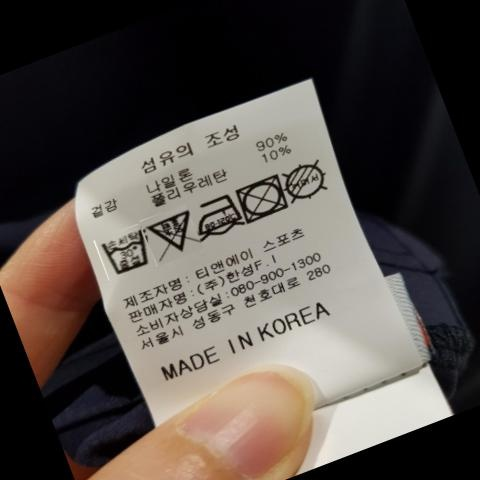DN_tumble_dry: (240, 173, 287, 227)
dry_flat_in_shade: (283, 155, 333, 209)
hand_wash: (102, 226, 151, 276)
iron_low: (198, 188, 244, 240)
non_chlorine_bleach: (152, 210, 195, 264)
